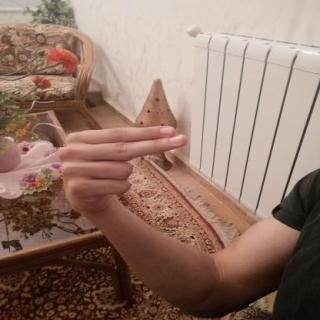AYN: (45, 119, 203, 221)
